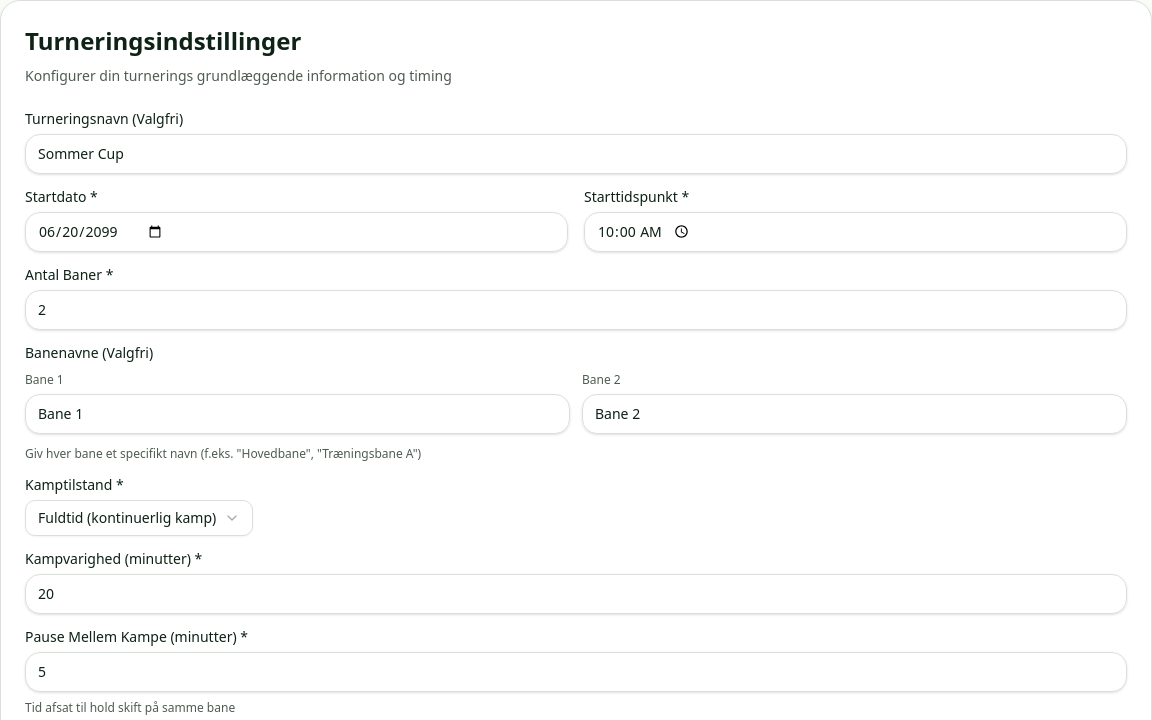
Test: Step1TournamentSettings › grows and shrinks the pitch name inputs when Antal Baner changes
Expected: the number of fields labelled "Bane 1" is 2, [25,394,570,434]; [582,394,1127,434]
Replace the text in the number field labelled "Antal Baner *" with "4": point(576, 310) [25,290,1127,330]
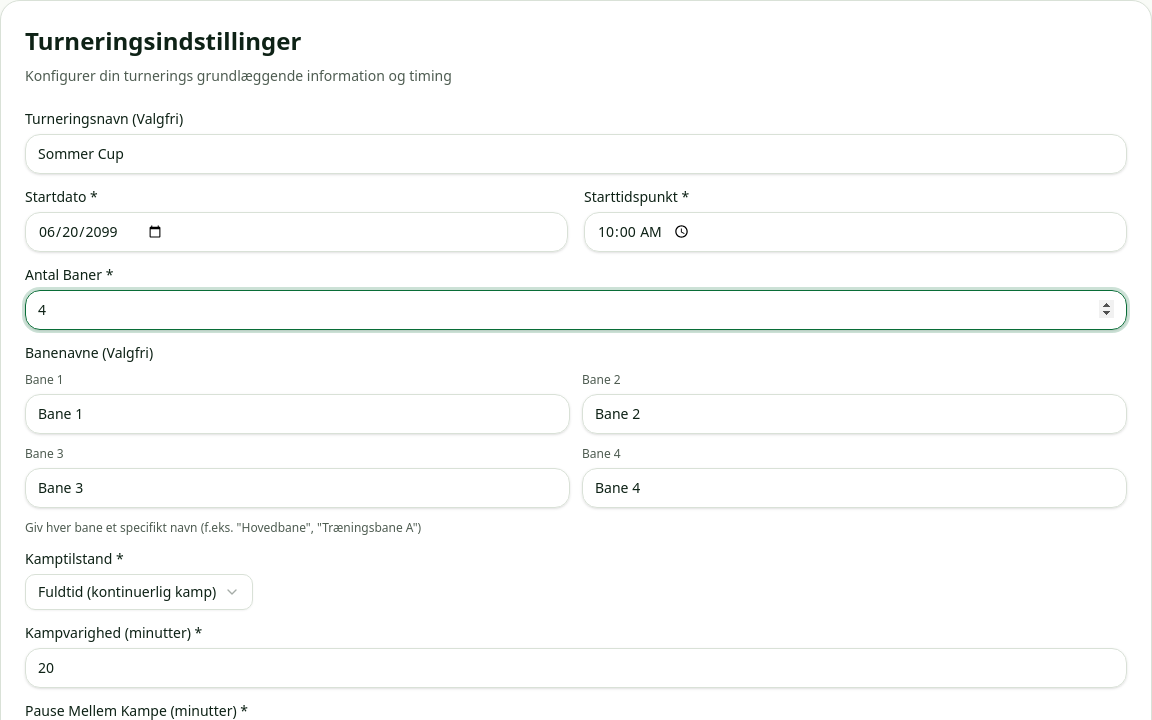
Result: the number of fields labelled "Bane 1" is 4 at [25,394,570,434]; [582,394,1127,434]; [25,468,570,508]; [582,468,1127,508]
Result: the field labelled "Bane 4" holds "Bane 4" at [582,468,1127,508]
Replace the text in the number field labelled "Antal Baner *" with "1": point(576, 310) [25,290,1127,330]
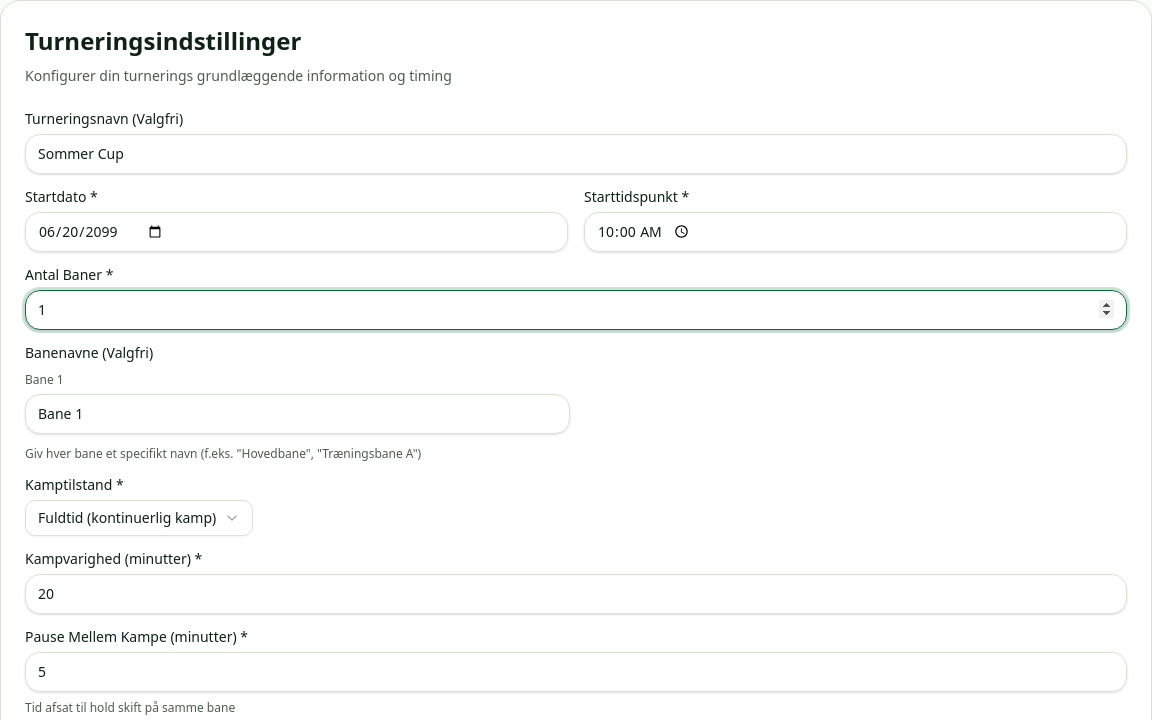
Expected: the label labelled "Bane 2" is not shown
Result: the number of fields labelled "Bane 1" is 1 at [25,394,570,434]
